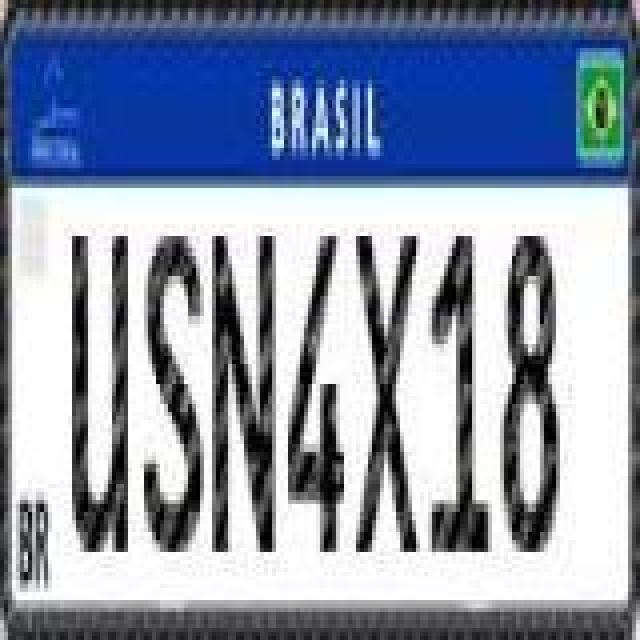1: (428, 230, 492, 554)
4: (284, 230, 348, 554)
8: (496, 224, 560, 560)
N: (210, 230, 278, 554)
S: (142, 220, 210, 556)
U: (70, 230, 130, 554)
X: (352, 230, 416, 554)
